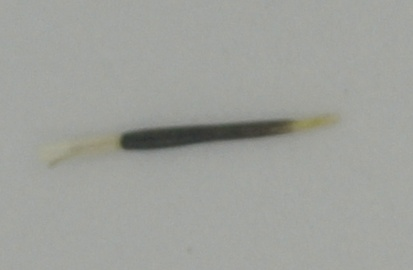เมล็ดดีเรียวยาว: (36, 109, 347, 164)
